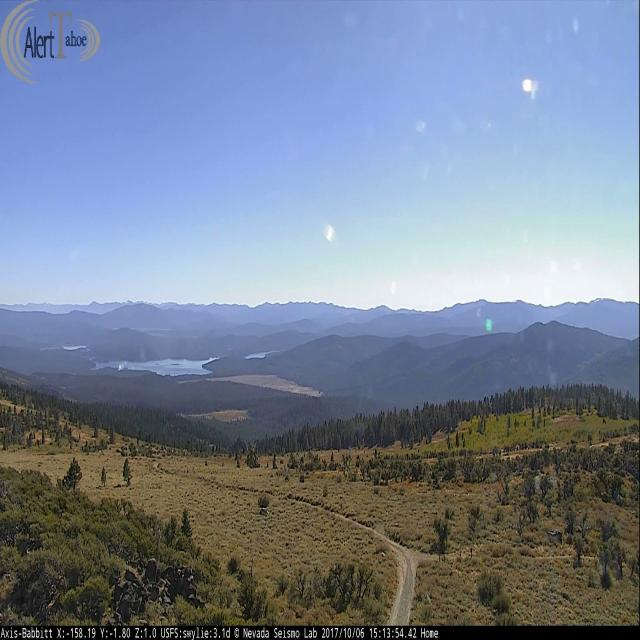smoke: (117, 316, 200, 371)
